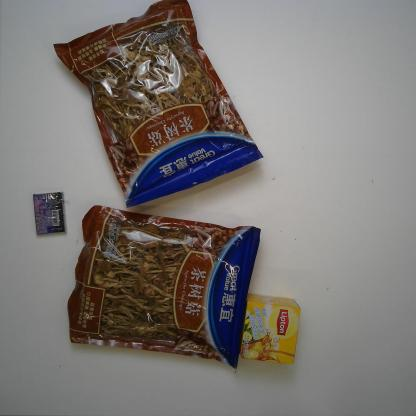Dried Food: (52, 0, 264, 209), (65, 202, 265, 377)
Gum: (32, 190, 66, 235)
Instant Drink: (239, 291, 303, 365)
